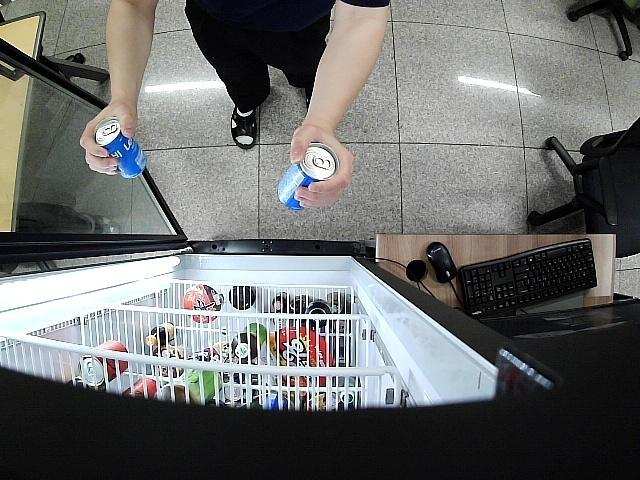15_letsbe: (276, 142, 339, 210), (94, 116, 148, 178)
